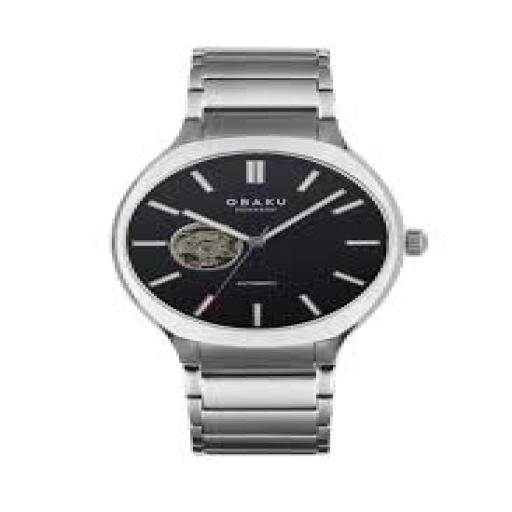KolSaati: (90, 16, 442, 484)
